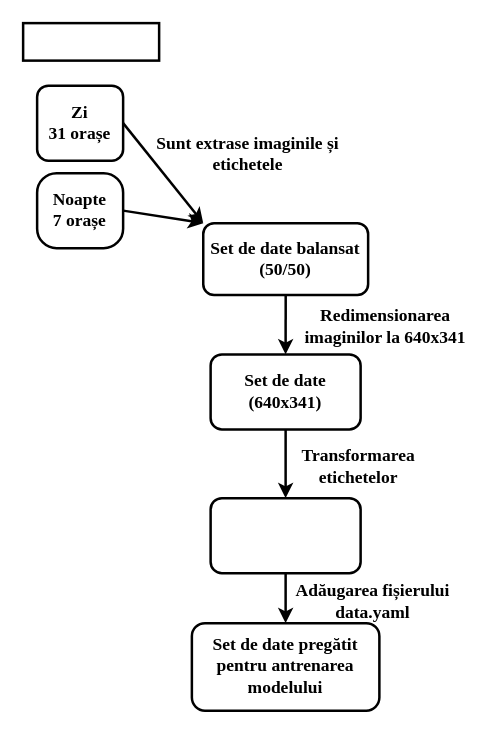
Some shapes in this 494 by 733 pixel diagram are drawn without their labels. Each missing label, with the centre of its shape:
"Set de date ECP" belongs at point 90,41.
"Set de date intermediar" belongs at point 285,535.
